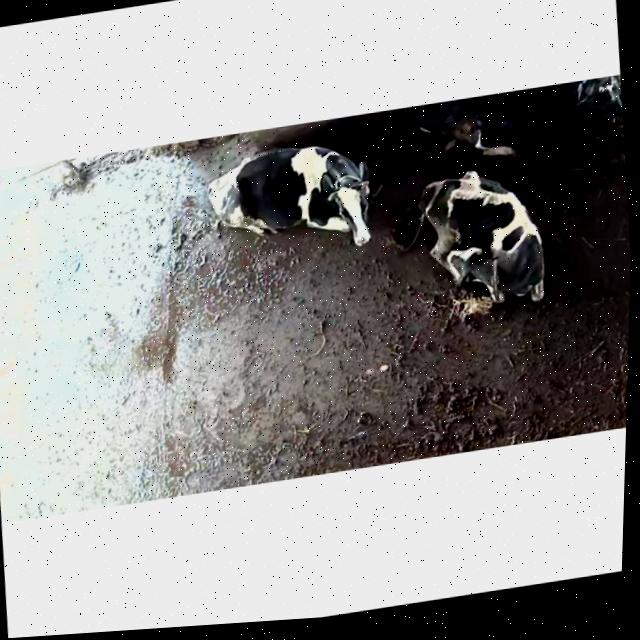lay: (168, 118, 389, 283), (389, 157, 564, 335)
